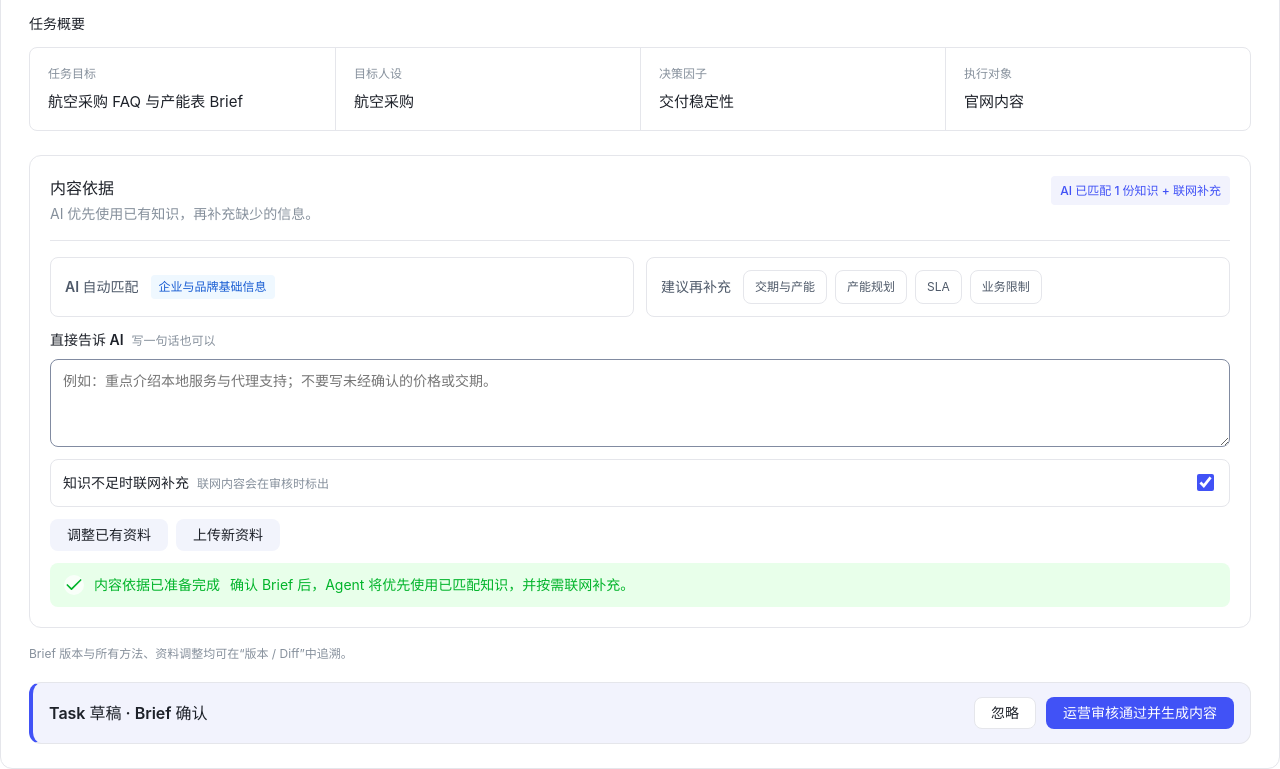
task workspace task confirmation › keeps a single operations Brief confirmation action in the first-step card
The width and height of the screenshot is (1280, 769).
(page scrolled)
Type "重点说明日本本地服务，不编造交期承诺。" into the text box labelled "直接告诉 AI 写一句话也可以".
click(640, 403); type("重点说明日本本地服务，不编造交期承诺。")  # box [50, 359, 1230, 447]
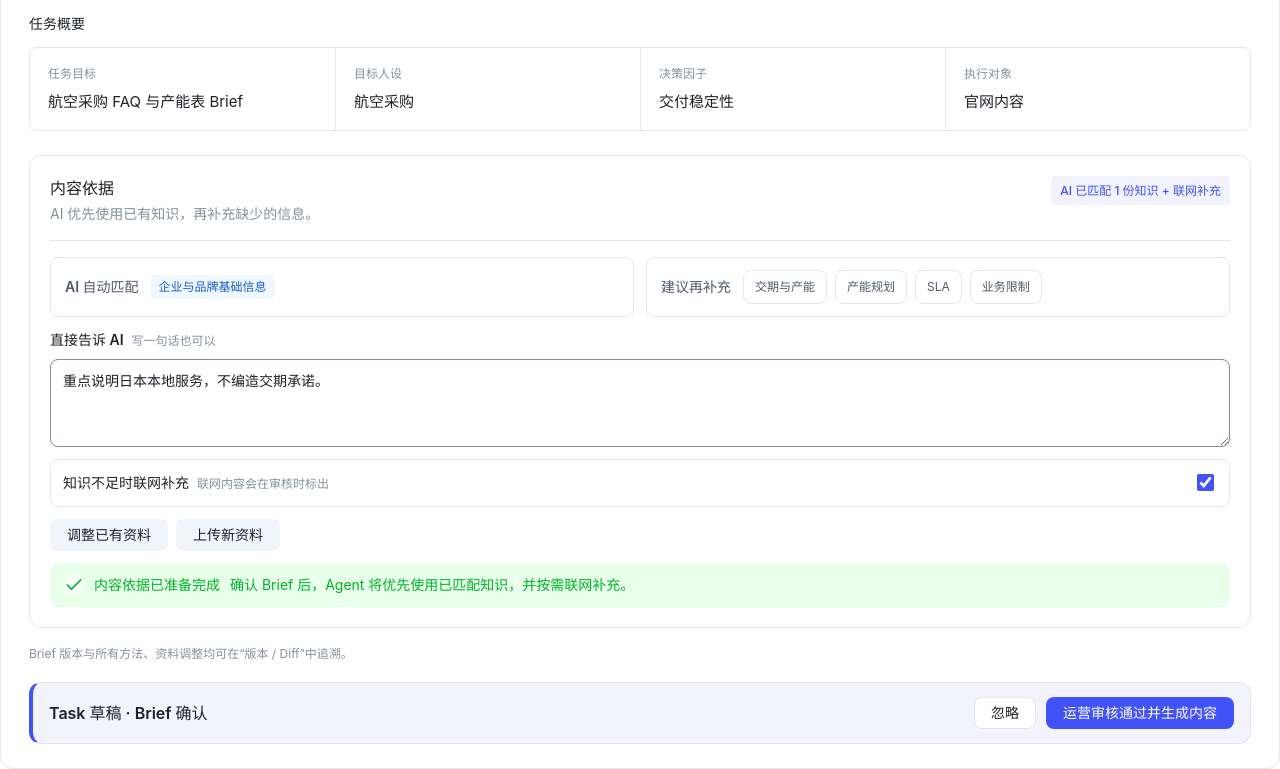
Expected: the button with test id "ignore-task" is shown, [974, 697, 1036, 729]
Click the button "运营审核通过并生成内容".
click(1140, 713)  # box [1046, 697, 1234, 729]
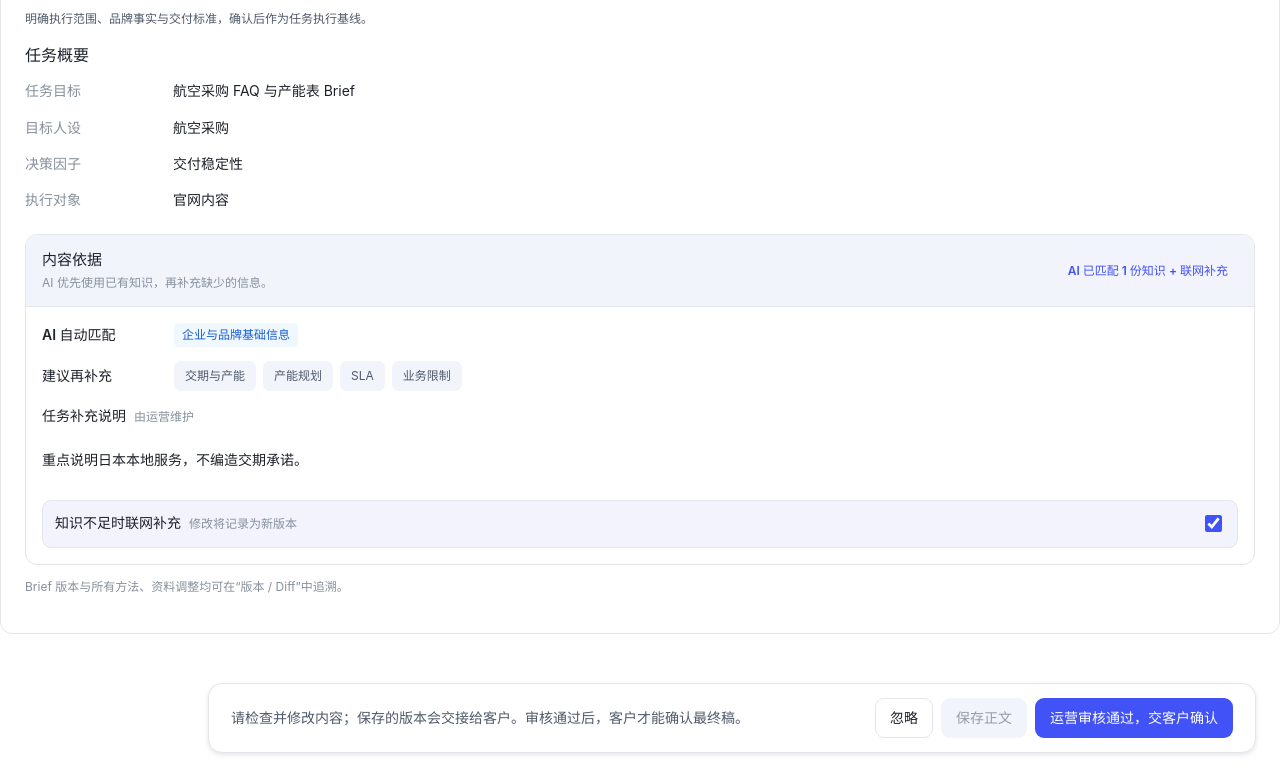
Now the text "重点说明日本本地服务，不编造交期承诺。" is shown, box [42, 451, 308, 468]
